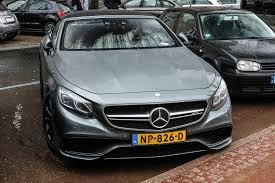num_plate: (131, 130, 187, 144)
